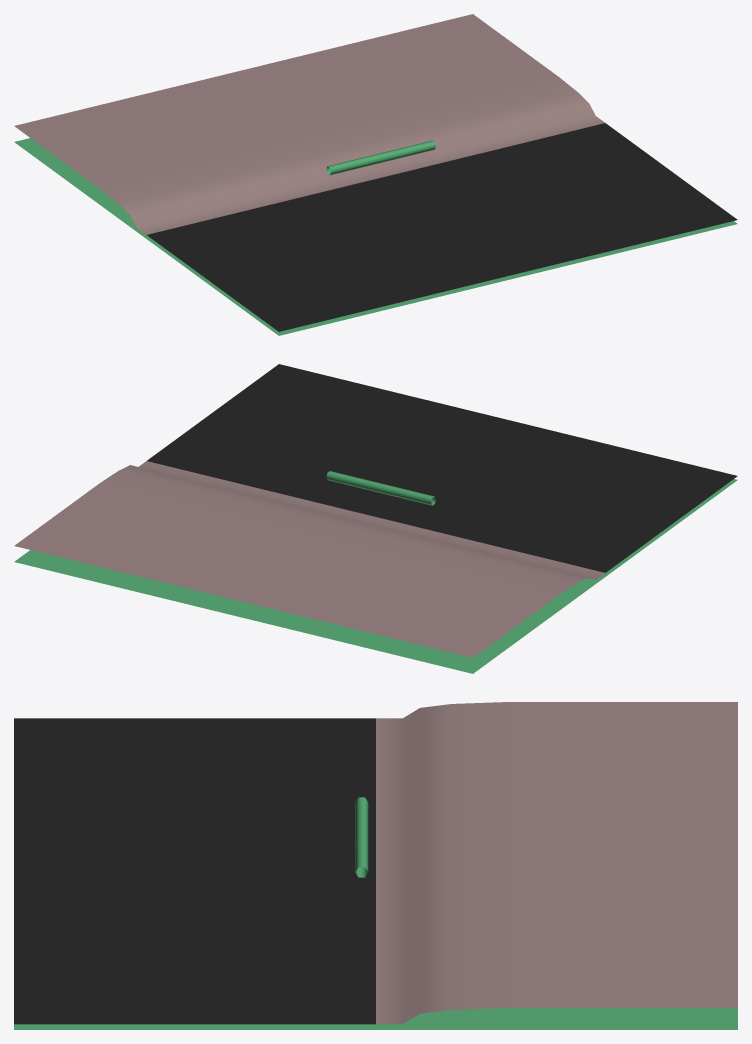
The model's file is sidewalk dir lod1.FBX.
The picture shows the model from 3 angles, top to bottom: view 1: azimuth 30°, elevation 25°; view 2: azimuth 150°, elevation 25°; view 3: azimuth 270°, elevation 25°; orthographic projection. The views are drawn at different scales.
Parts seen in each view (by area): view 1: Group003; view 2: Group003; view 3: Group003.
Boxes of the visible parts, x1,y1,x2,y2 form: Group003: (14,14,737,335); Group003: (14,364,737,673); Group003: (14,702,737,1029).
Bounding box in the file's own units: 3 × 0.2036 × 3.
